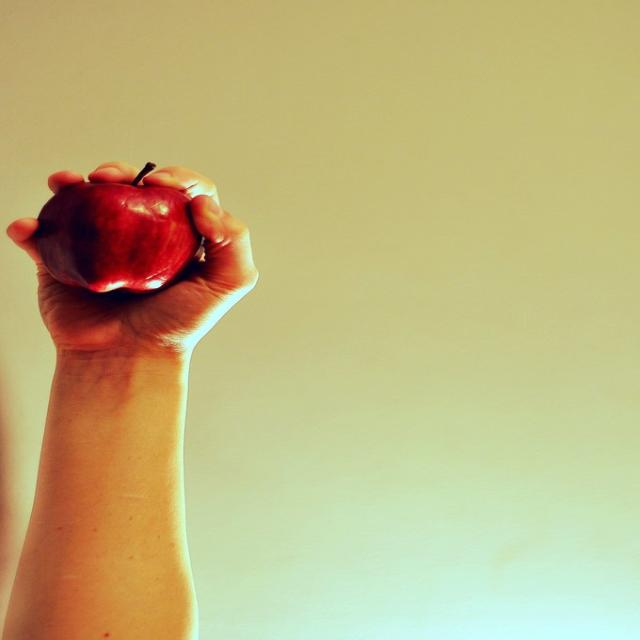Healty Apple: (23, 168, 210, 302)
